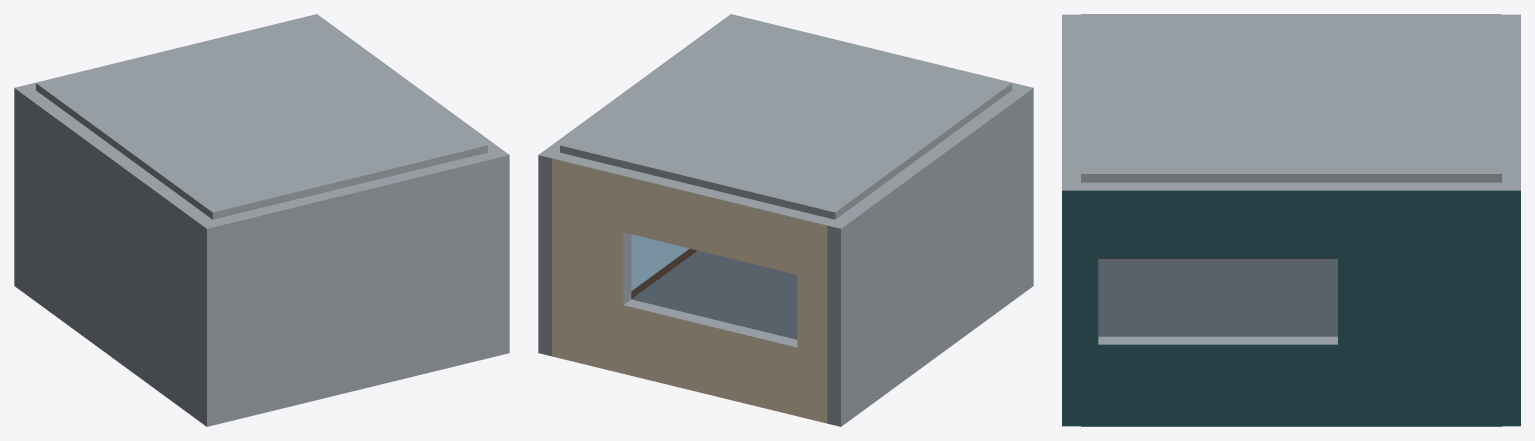
File: ARCH_Istasyon.glb
3 renders of one model, left to right at view 1: azimuth 30°, elevation 25°; view 2: azimuth 150°, elevation 25°; view 3: azimuth 270°, elevation 25°, orthographic. The views are drawn at different scales.
Visible parts, largest first — view 1: Duvar_Guney, Tavan, Duvar_Bati, Duvar_Dogu_Ortak_Mutfak; view 2: Tavan, Duvar_Kuzey_Ortak_Kasa, Duvar_Bati, Zemin, Duvar_Dogu_Ortak_Mutfak, Supurgelik; view 3: Duvar_Dogu_Ortak_Mutfak, Tavan, Zemin, Duvar_Guney, Duvar_Kuzey_Ortak_Kasa.
Boxes of the visible parts, x1,y1,x2,y2 form: Duvar_Guney: (213, 152, 495, 423); Tavan: (36, 16, 487, 219); Duvar_Bati: (14, 84, 220, 426); Duvar_Dogu_Ortak_Mutfak: (303, 14, 509, 356); Tavan: (560, 16, 1011, 219); Duvar_Kuzey_Ortak_Kasa: (552, 152, 834, 423); Duvar_Bati: (827, 84, 1033, 426); Zemin: (631, 250, 797, 339); Duvar_Dogu_Ortak_Mutfak: (538, 14, 744, 356); Supurgelik: (631, 248, 697, 298); Duvar_Dogu_Ortak_Mutfak: (1062, 182, 1520, 426); Tavan: (1081, 14, 1501, 182); Zemin: (1081, 259, 1501, 426); Duvar_Guney: (1062, 22, 1080, 182); Duvar_Kuzey_Ortak_Kasa: (1502, 22, 1520, 182).
Bounding box in the file's own units: 4.4 × 2.95 × 4.85.
